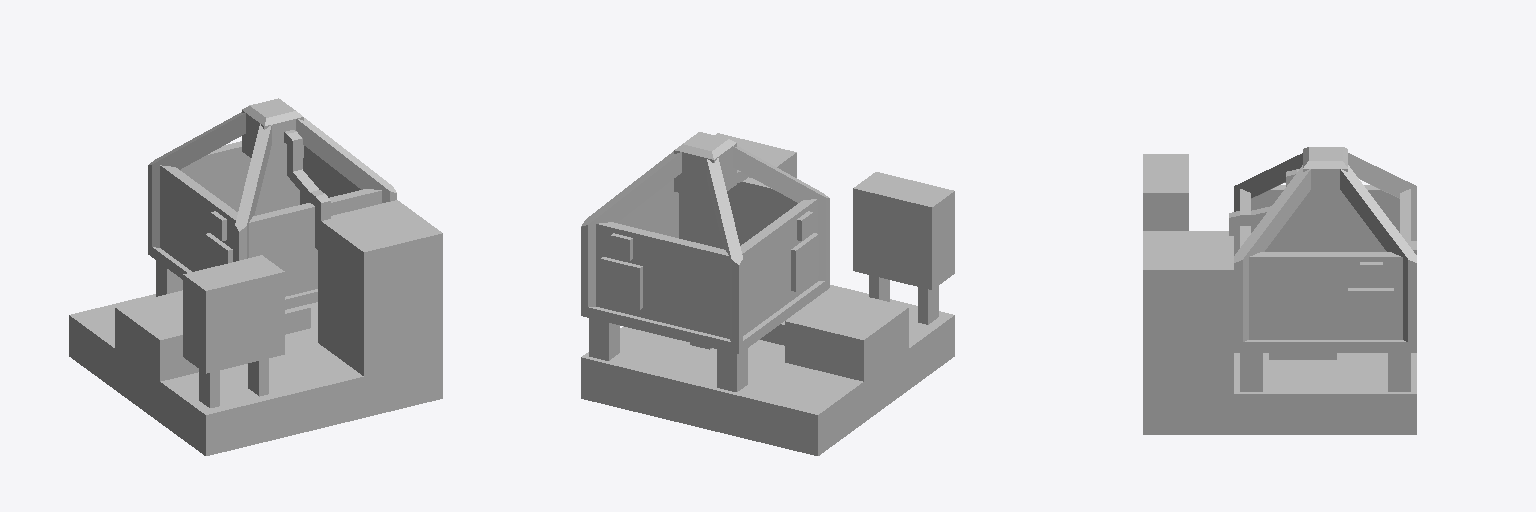
The model's file is squeezer_mirrored.obj.
The picture shows the model from 3 angles: view 1: azimuth 30°, elevation 25°; view 2: azimuth 150°, elevation 25°; view 3: azimuth 270°, elevation 25°; orthographic projection.
Visible parts, largest first — view 1: base; view 2: base; view 3: base.
Boxes of the visible parts, box(x1,y1,x2,y2) form: base: box(69, 98, 442, 455); base: box(581, 132, 954, 455); base: box(1143, 147, 1416, 434).
Bounding box in the file's own units: 3 × 2.94 × 3.